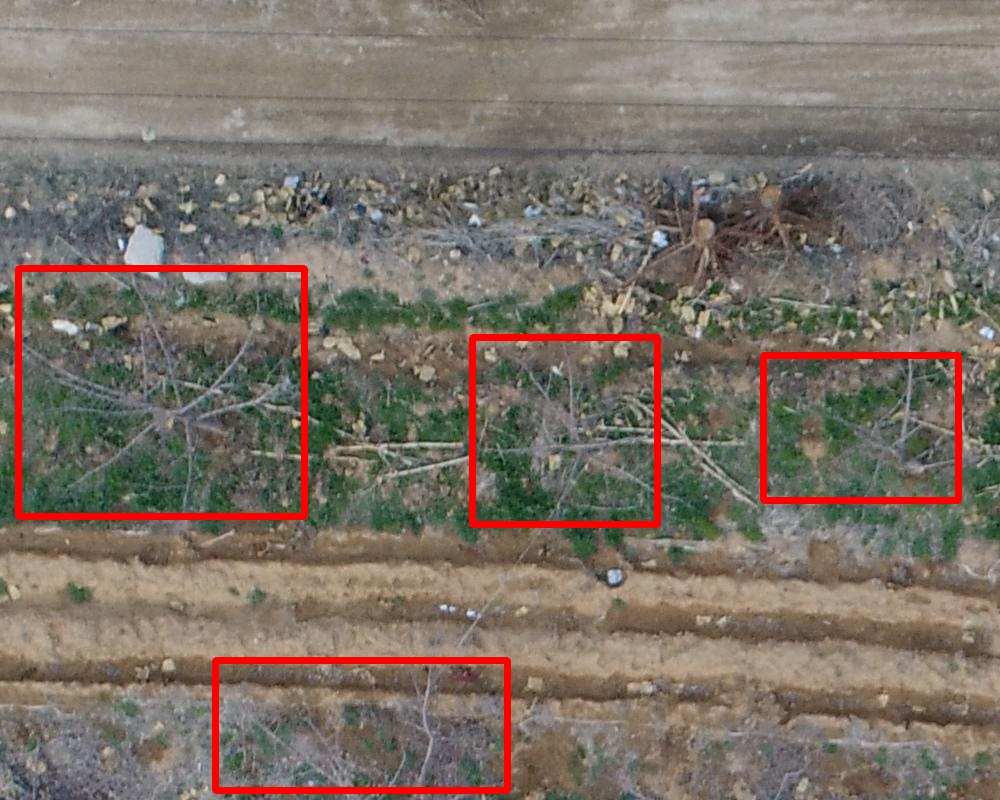apple: (18, 268, 304, 516), (215, 660, 507, 790), (472, 337, 657, 524), (763, 355, 958, 500)
